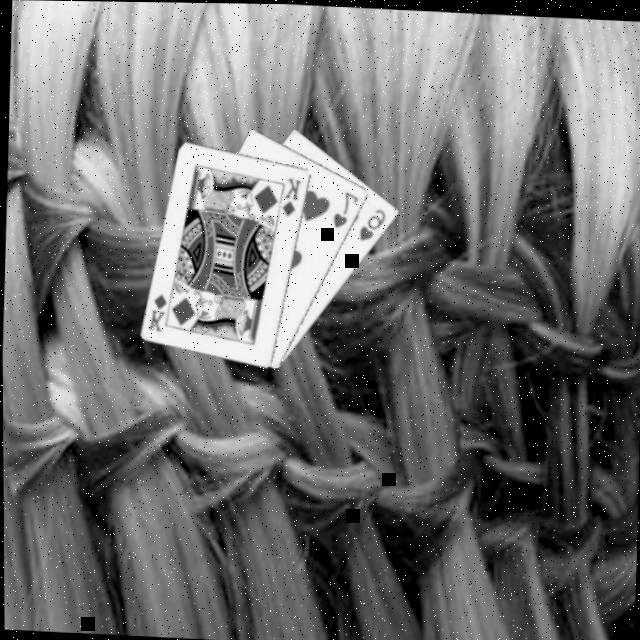6H: (356, 202, 389, 241)
7H: (330, 184, 361, 228)
KD: (279, 171, 305, 217), (146, 288, 170, 332)
